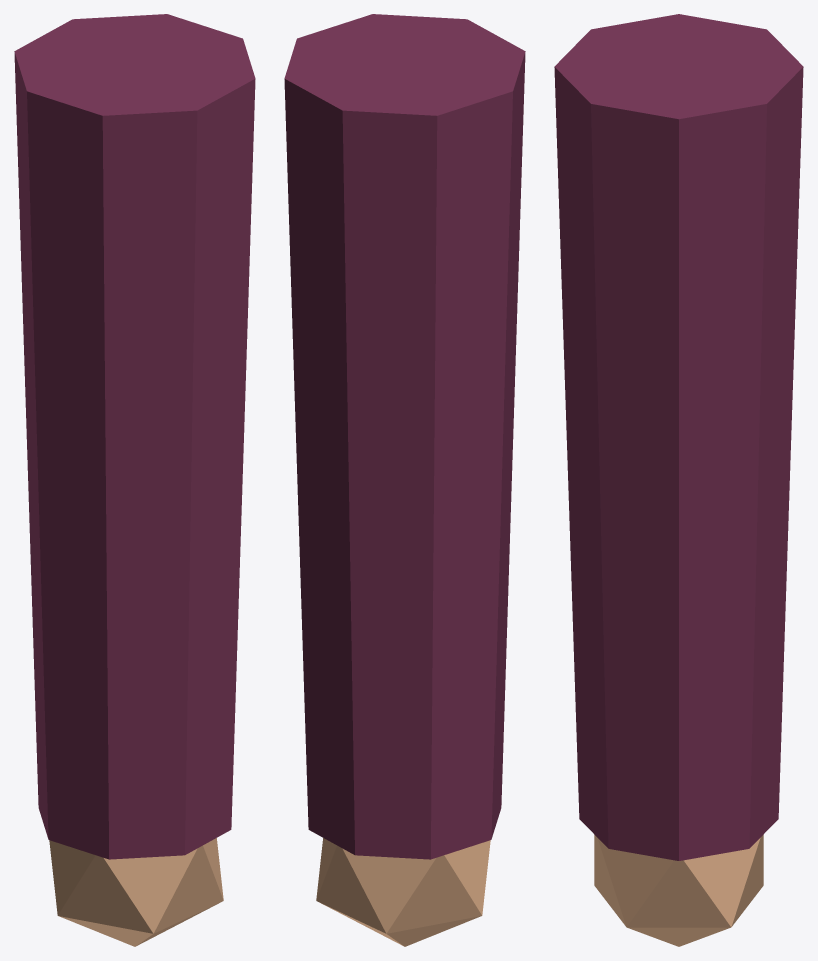
File: insan_k0_kol.glb
The picture shows the model from 3 angles, left to right: view 1: azimuth 30°, elevation 25°; view 2: azimuth 150°, elevation 25°; view 3: azimuth 270°, elevation 25°; orthographic projection.
Parts seen in each view (by area): view 1: Cone; view 2: Cone; view 3: Cone.
Part boxes in pixels (<box>): Cone: <box>14,14,255,946</box>; Cone: <box>284,14,525,946</box>; Cone: <box>554,14,803,946</box>.
Bounding box in the file's own units: 0.03 × 0.117 × 0.03.
